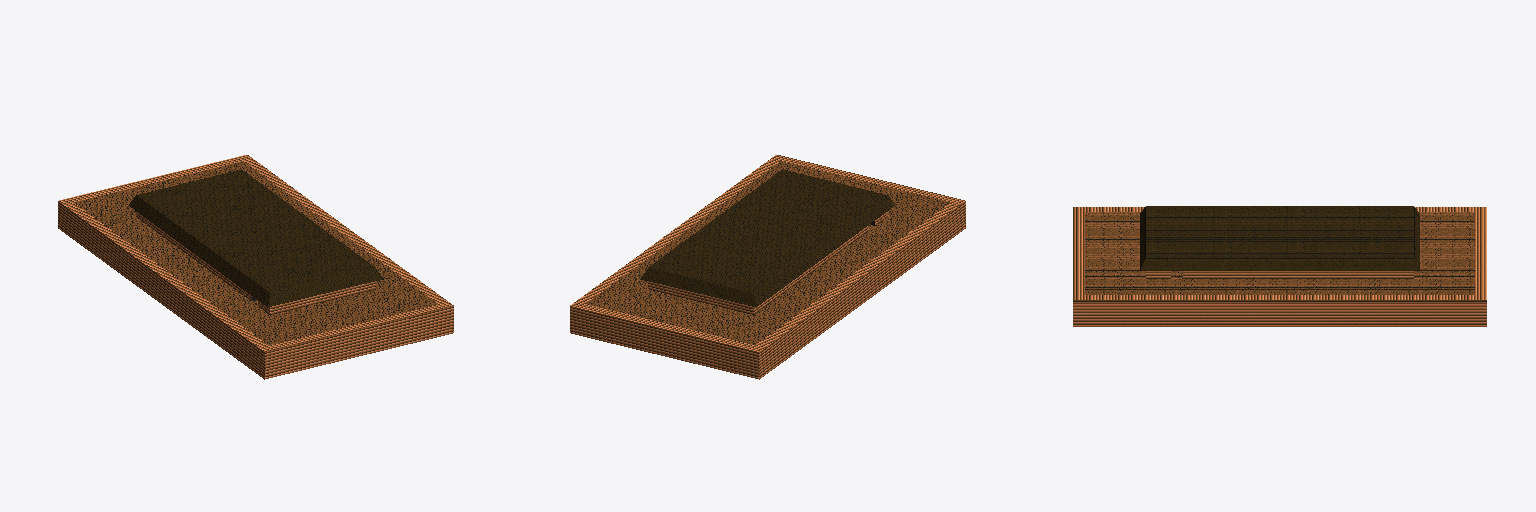
3 renders of one model, left to right at view 1: azimuth 30°, elevation 25°; view 2: azimuth 150°, elevation 25°; view 3: azimuth 270°, elevation 25°, orthographic.
Parts seen in each view (by area): view 1: Plane, Cube.002, Cube.001; view 2: Plane, Cube.002, Cube.001; view 3: Plane, Cube.002, Cube.001.
Boxes of the visible parts, x1=… form: Plane: x1=74, y1=161, x2=437, y2=344; Cube.002: x1=58, y1=155, x2=453, y2=379; Cube.001: x1=136, y1=211, x2=375, y2=314; Plane: x1=586, y1=161, x2=949, y2=344; Cube.002: x1=570, y1=155, x2=965, y2=379; Cube.001: x1=648, y1=211, x2=887, y2=314; Plane: x1=1085, y1=206, x2=1474, y2=294; Cube.002: x1=1073, y1=207, x2=1486, y2=326; Cube.001: x1=1146, y1=270, x2=1413, y2=278.
Size of the model in its own units: 36 by 9 by 68.
10 materials, 10 textured.